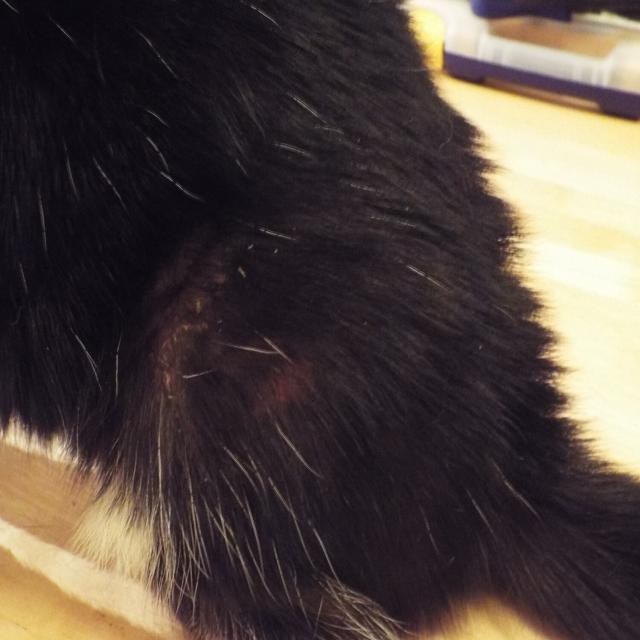da khoe manh: (234, 19, 454, 358)
